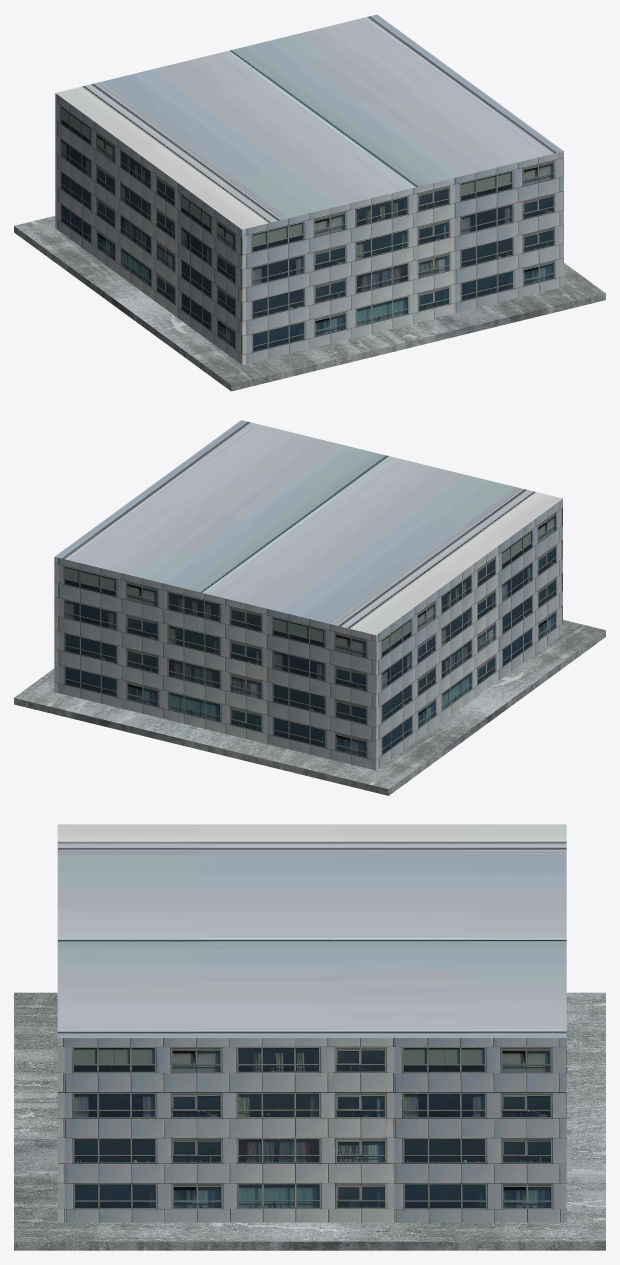
Rendered from BagSS06base_0.fbx.
The picture shows the model from 3 angles, top to bottom: view 1: azimuth 30°, elevation 25°; view 2: azimuth 150°, elevation 25°; view 3: azimuth 270°, elevation 25°; orthographic projection. The views are drawn at different scales.
Visible parts, largest first — view 1: baseBox0, baseBase0; view 2: baseBox0, baseBase0; view 3: baseBox0, baseBase0.
Part boxes in pixels (x1=…): baseBox0: x1=55, y1=14, x2=563, y2=364; baseBase0: x1=14, y1=216, x2=605, y2=391; baseBox0: x1=54, y1=420, x2=562, y2=770; baseBase0: x1=14, y1=620, x2=605, y2=795; baseBox0: x1=57, y1=824, x2=566, y2=1222; baseBase0: x1=14, y1=992, x2=605, y2=1250.
Bounding box in the file's own units: 46.45 × 16.99 × 46.65.
